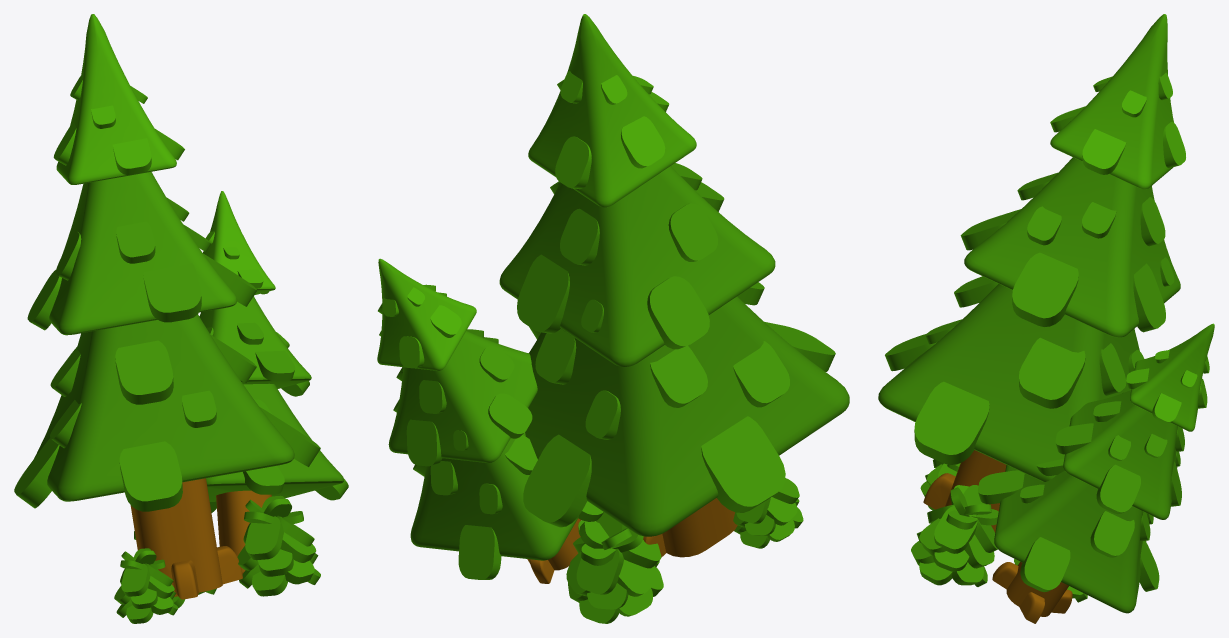
Rendered from forest2.fbx.
The picture shows the model from 3 angles, left to right: view 1: azimuth 30°, elevation 25°; view 2: azimuth 150°, elevation 25°; view 3: azimuth 270°, elevation 25°; orthographic projection. The views are drawn at different scales.
Parts seen in each view (by area): view 1: Tree1; view 2: Tree1; view 3: Tree1.
Boxes of the visible parts, x1,y1,x2,y2 form: Tree1: (14, 14, 348, 623); Tree1: (377, 14, 849, 623); Tree1: (878, 14, 1214, 623).
Bounding box in the file's own units: 964 × 1639 × 874.
